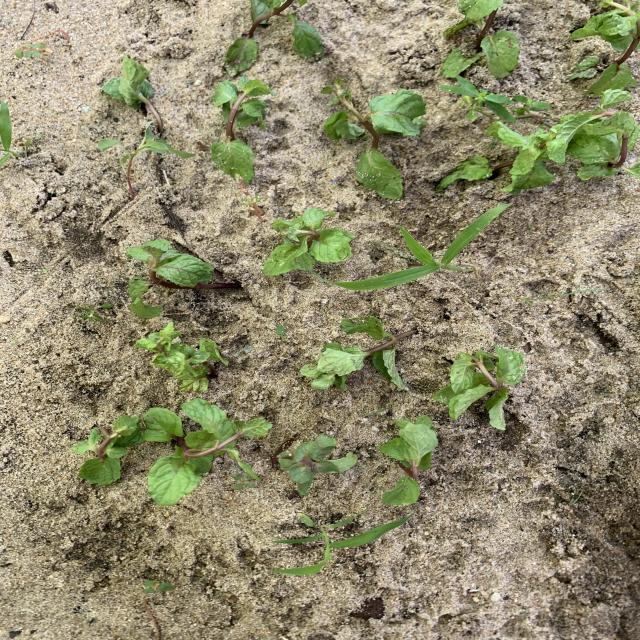crop: (142, 401, 271, 505), (324, 81, 425, 199), (301, 318, 413, 390), (433, 347, 527, 429), (126, 240, 215, 317), (225, 1, 322, 68), (570, 1, 639, 95), (211, 79, 273, 183), (135, 322, 226, 391), (264, 209, 353, 275), (444, 1, 518, 77), (74, 415, 147, 483), (380, 417, 437, 504), (103, 56, 163, 128)
weed: (438, 90, 640, 194), (335, 204, 509, 290), (273, 517, 409, 575), (98, 124, 195, 198), (278, 435, 357, 494), (441, 80, 512, 120), (513, 95, 550, 115), (15, 42, 48, 57), (232, 473, 261, 489), (240, 193, 262, 212), (77, 305, 103, 321), (144, 580, 173, 592), (571, 488, 583, 503), (364, 409, 384, 416), (277, 324, 284, 338), (521, 298, 531, 306)
